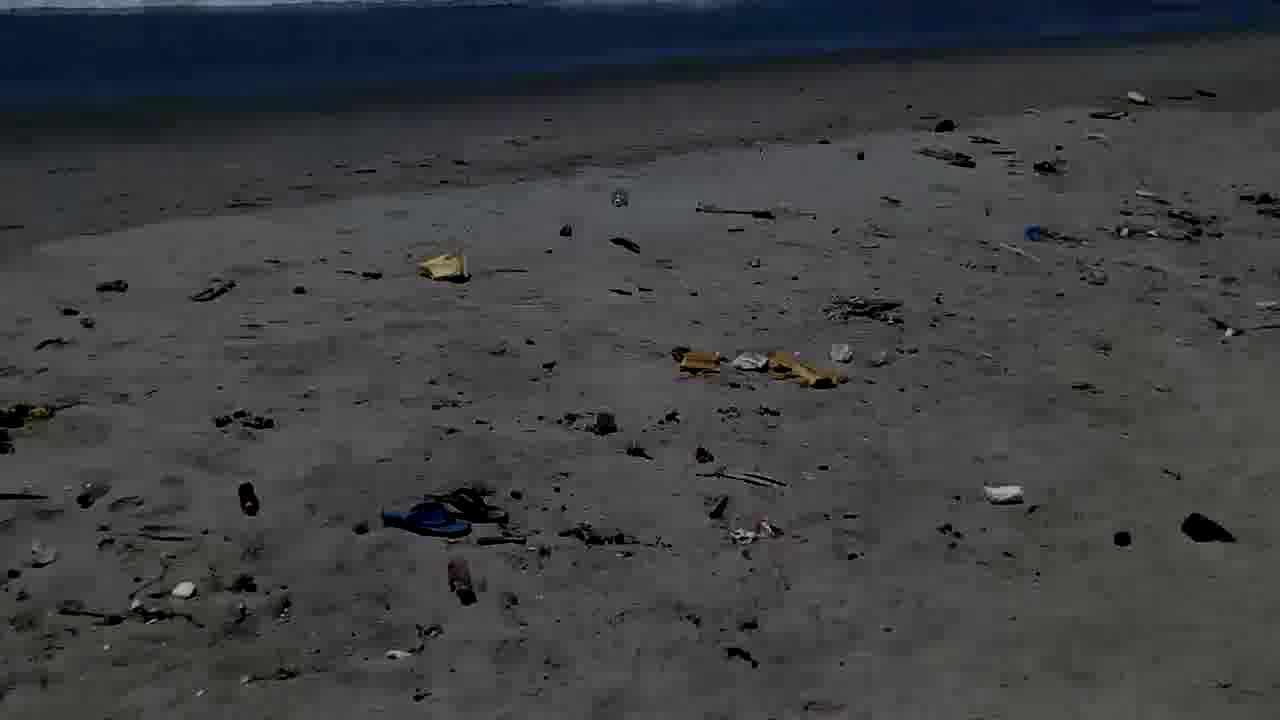obj: (378, 483, 512, 535), (672, 346, 838, 386), (1182, 512, 1233, 548), (417, 248, 467, 284), (1022, 222, 1081, 246), (444, 558, 472, 604), (981, 485, 1030, 504), (234, 484, 256, 514), (1104, 532, 1132, 552), (169, 583, 199, 599), (834, 342, 852, 362)
sand/background: (1, 0, 1279, 257)
